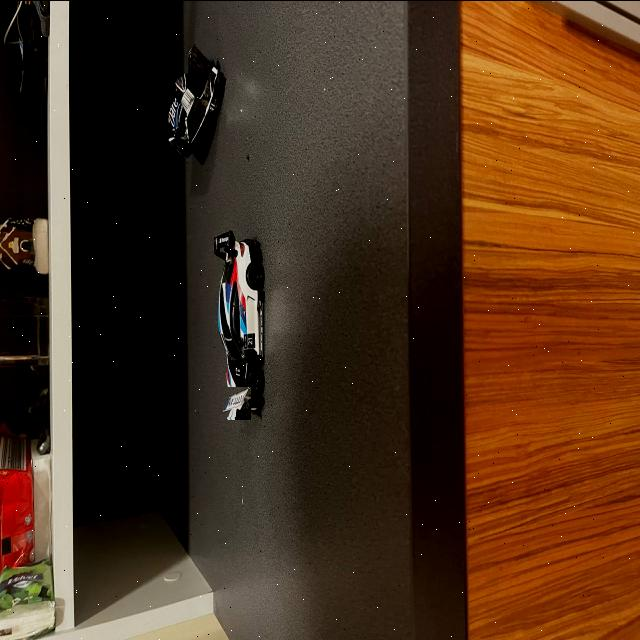KX 7777 KX: (220, 386, 251, 417)
